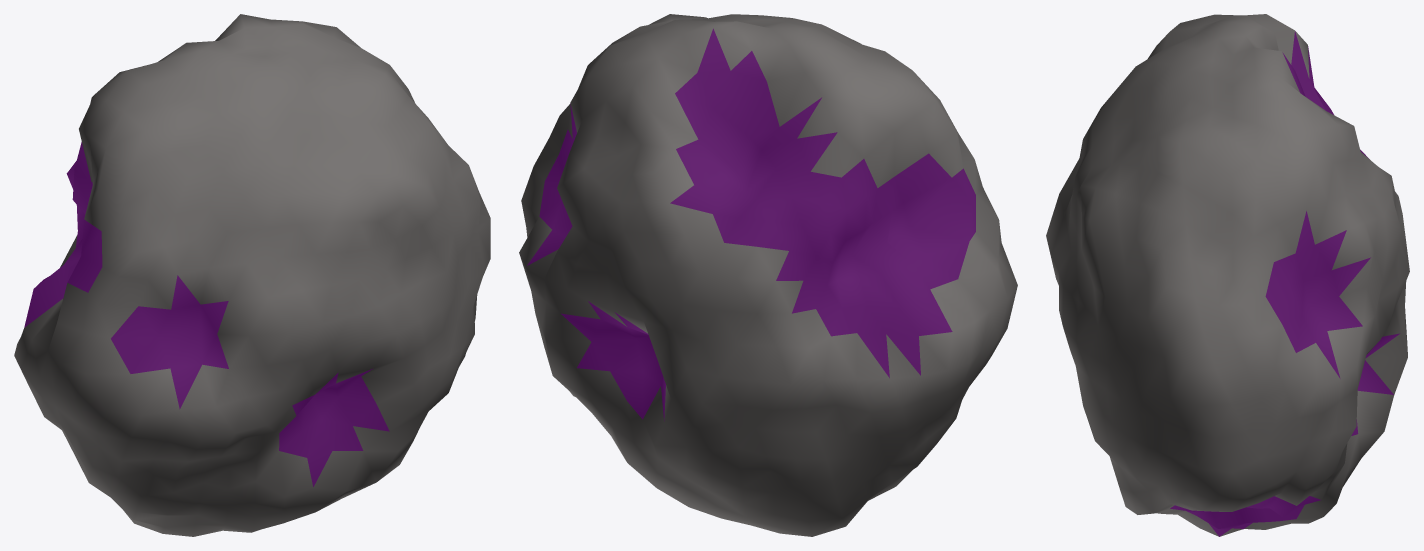
Rendered from asteroid_12.glb.
3 views of the same model, side by side, from view 1: azimuth 30°, elevation 25°; view 2: azimuth 150°, elevation 25°; view 3: azimuth 270°, elevation 25° (orthographic).
Parts seen in each view (by area): view 1: Asteroid_12; view 2: Asteroid_12; view 3: Asteroid_12.
Part boxes in pixels (bbox=[...]): Asteroid_12: bbox=[14, 14, 490, 536]; Asteroid_12: bbox=[519, 14, 1017, 536]; Asteroid_12: bbox=[1046, 14, 1409, 536].
Bounding box in the file's own units: 2.11 × 2.21 × 1.49.
